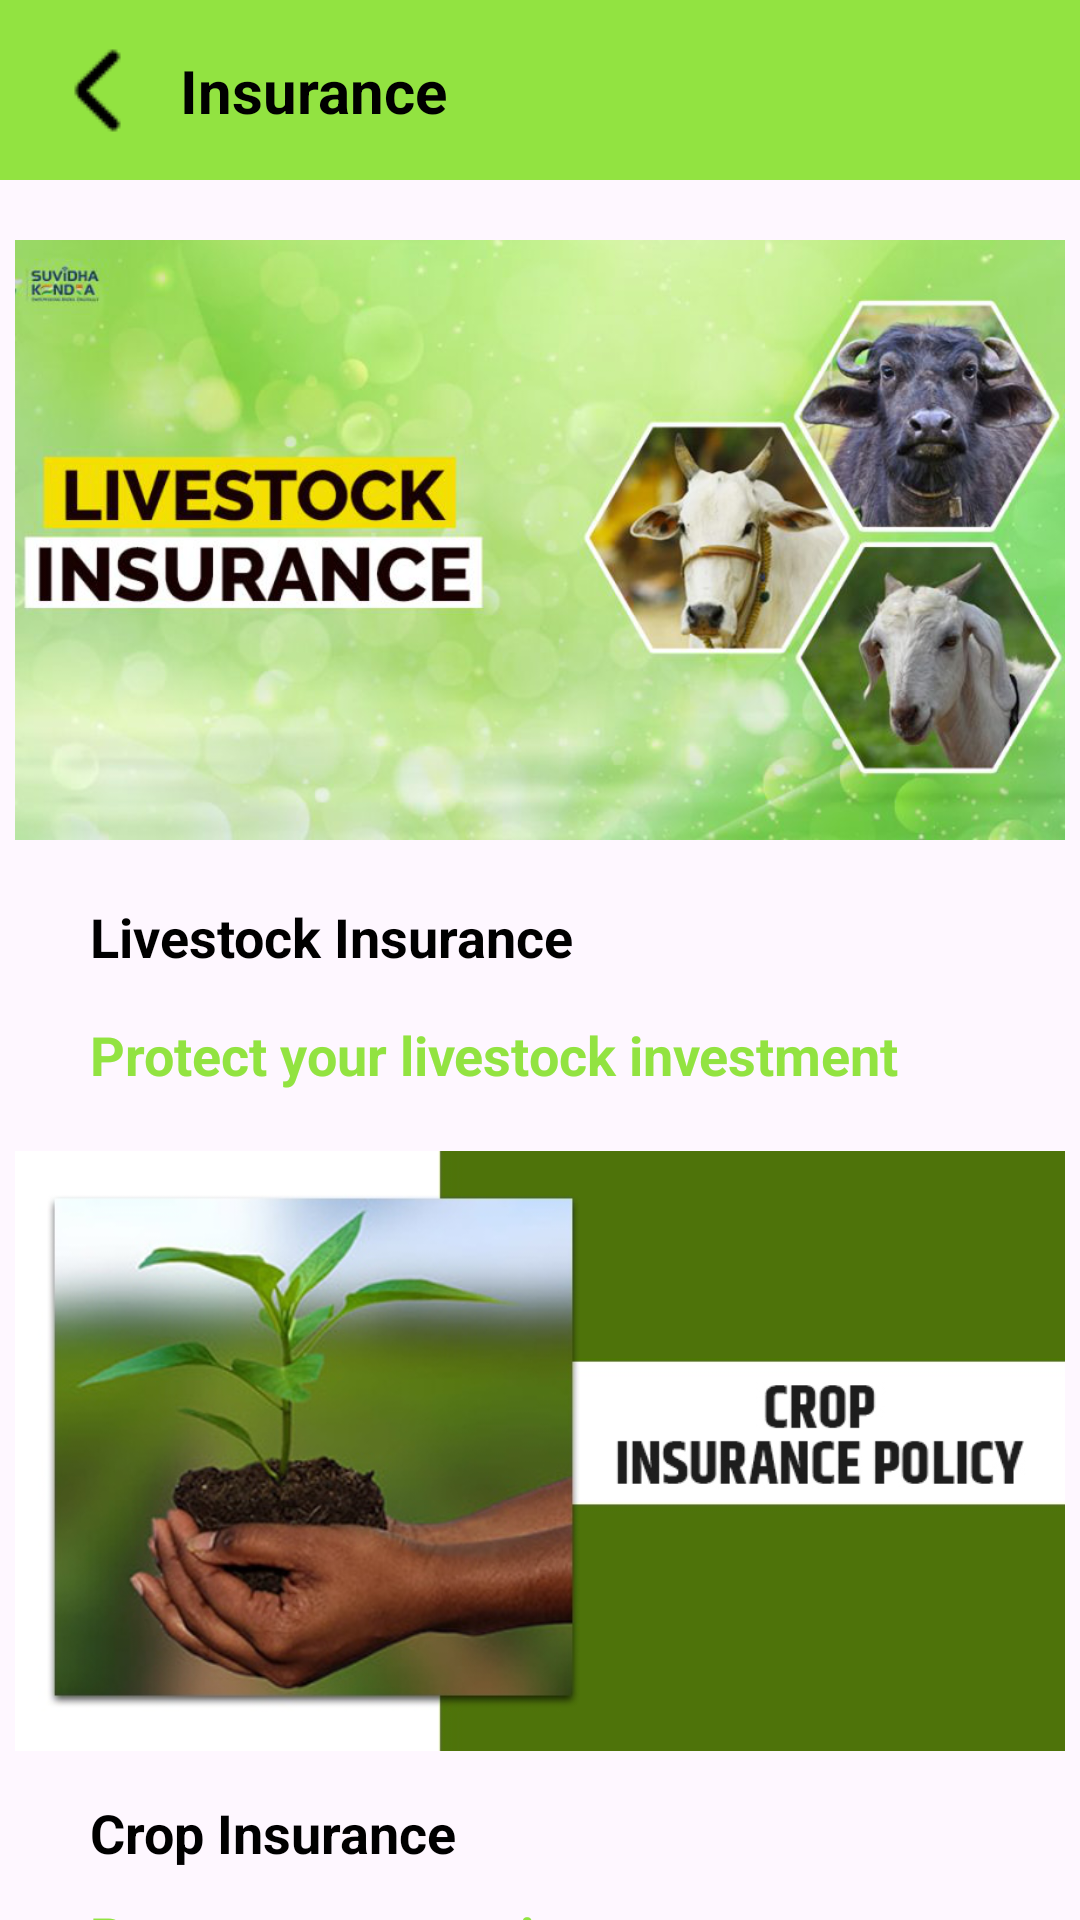

Where to tap for icons on this 1080 x 1920 app screen, as [x,y]:
back arrow: [97,90]
